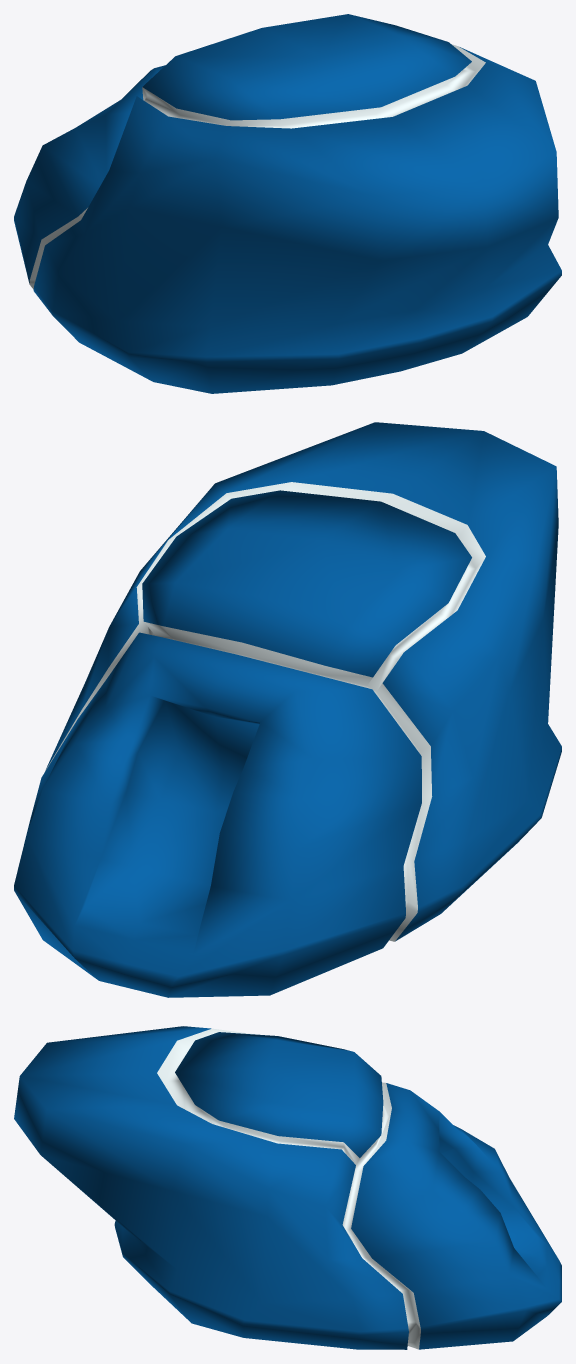
Rendered from tank_cannon_01.fbx.
The picture shows the model from 3 angles, top to bottom: view 1: azimuth 30°, elevation 25°; view 2: azimuth 150°, elevation 25°; view 3: azimuth 270°, elevation 25°; orthographic projection. The views are drawn at different scales.
Parts seen in each view (by area): view 1: CannonBase; view 2: CannonBase; view 3: CannonBase.
Part boxes in pixels (x1,y1,x2,y2): CannonBase: [14, 14, 561, 393]; CannonBase: [14, 422, 561, 997]; CannonBase: [14, 1026, 561, 1349].
Size of the model in its own units: 120 by 89.43 by 184.
